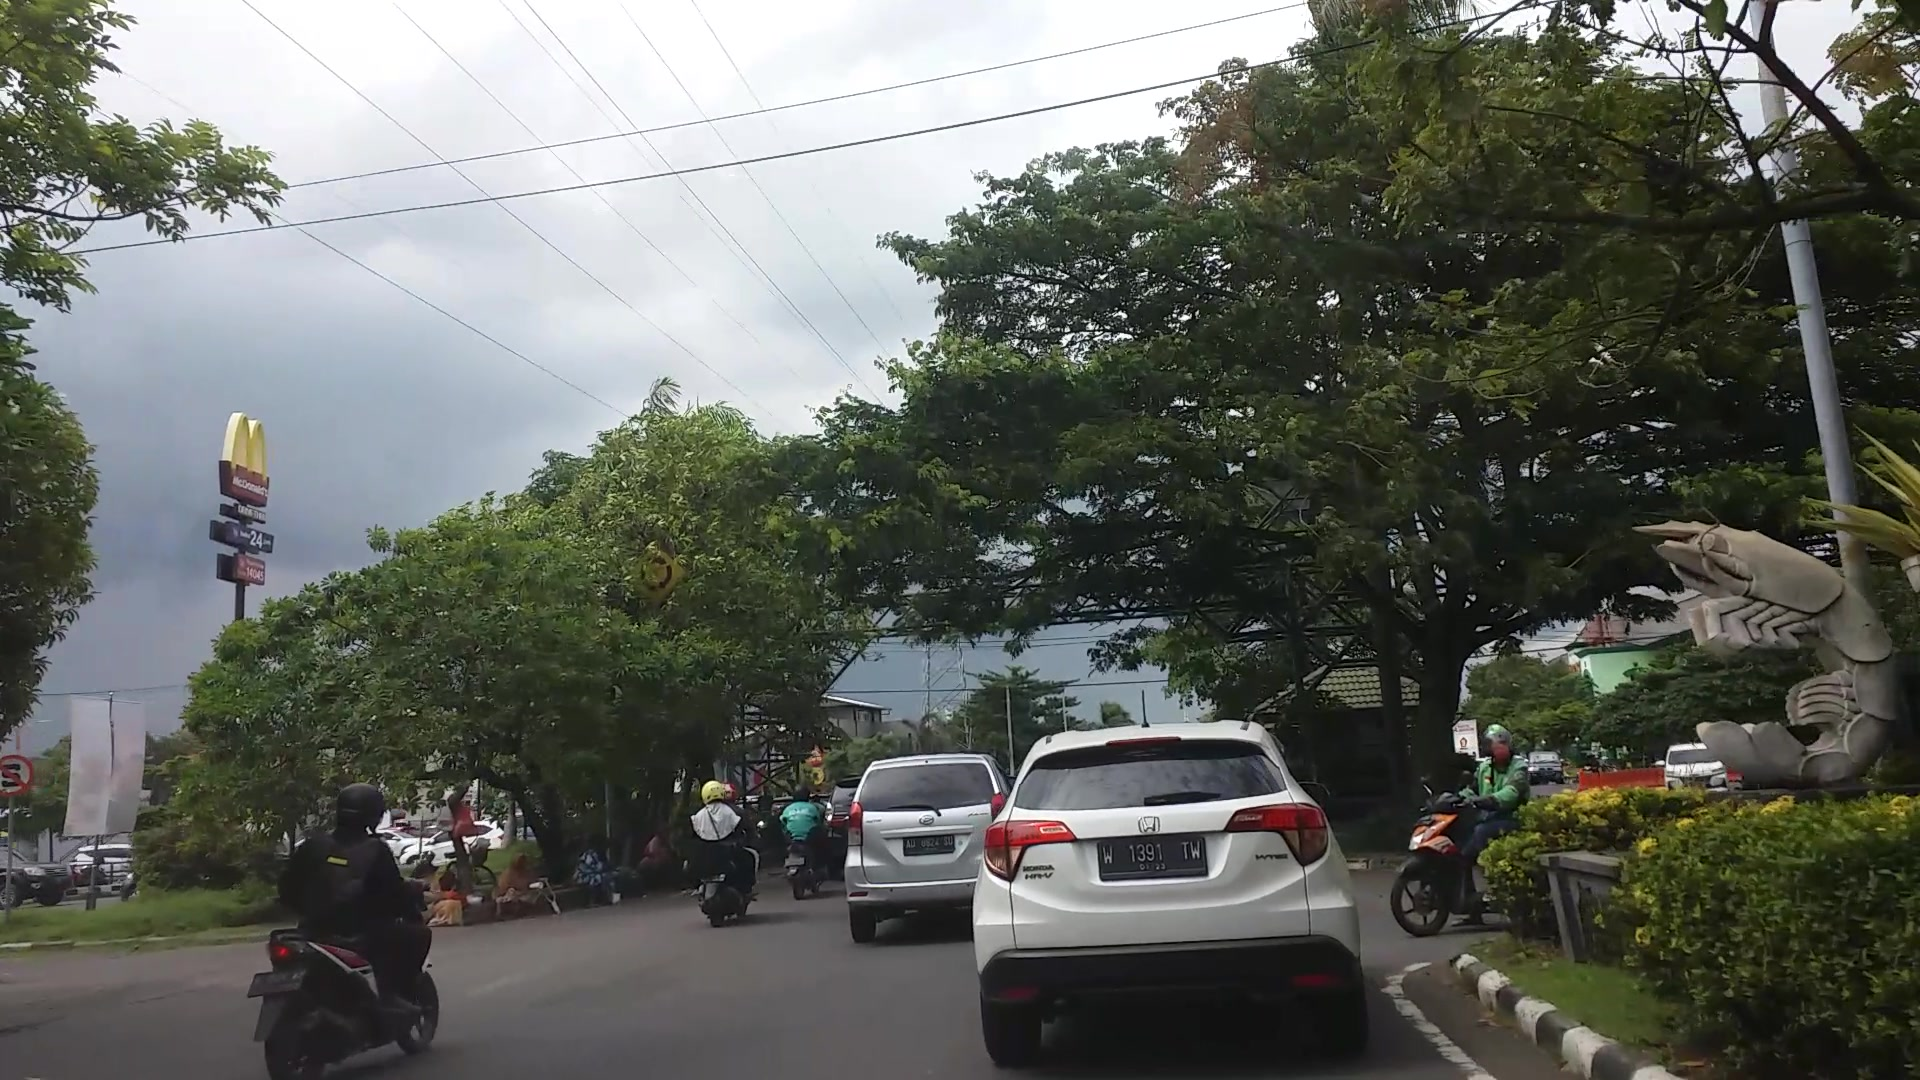plate_positive: (1097, 837, 1207, 881)
